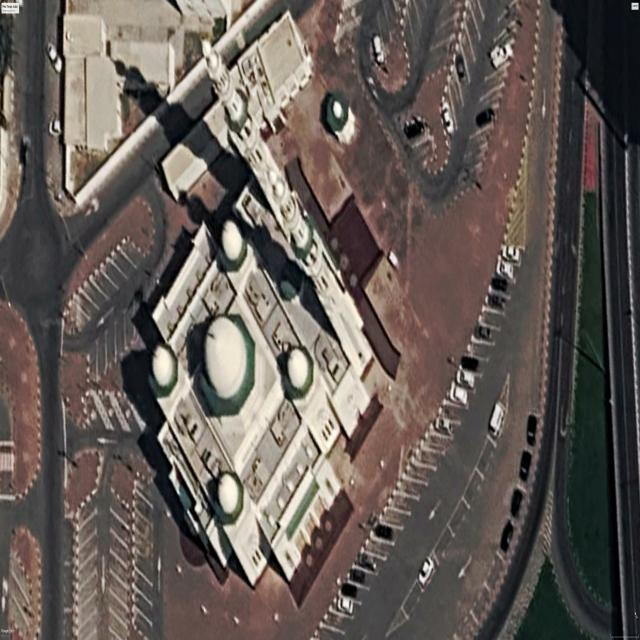Home: (150, 40, 372, 585)
